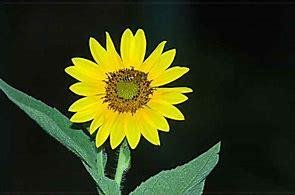sunflowers: (63, 24, 195, 148)
